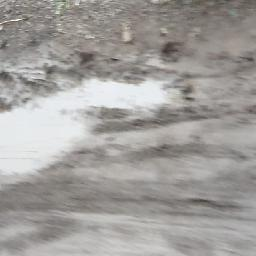water accumulation: (0, 75, 173, 175)
